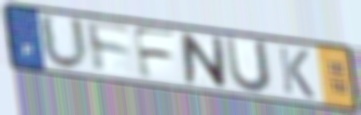F: (83, 18, 134, 75), (130, 24, 179, 81)
K: (275, 44, 317, 101)
N: (178, 31, 229, 91)
U: (36, 11, 92, 74), (222, 34, 274, 96)
